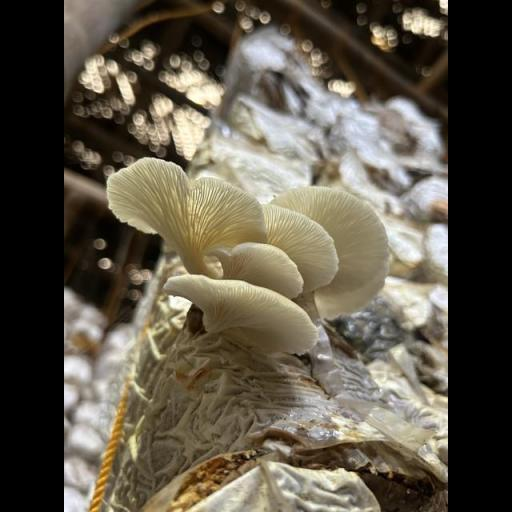White Oyster Mushroom: (102, 144, 394, 369)
